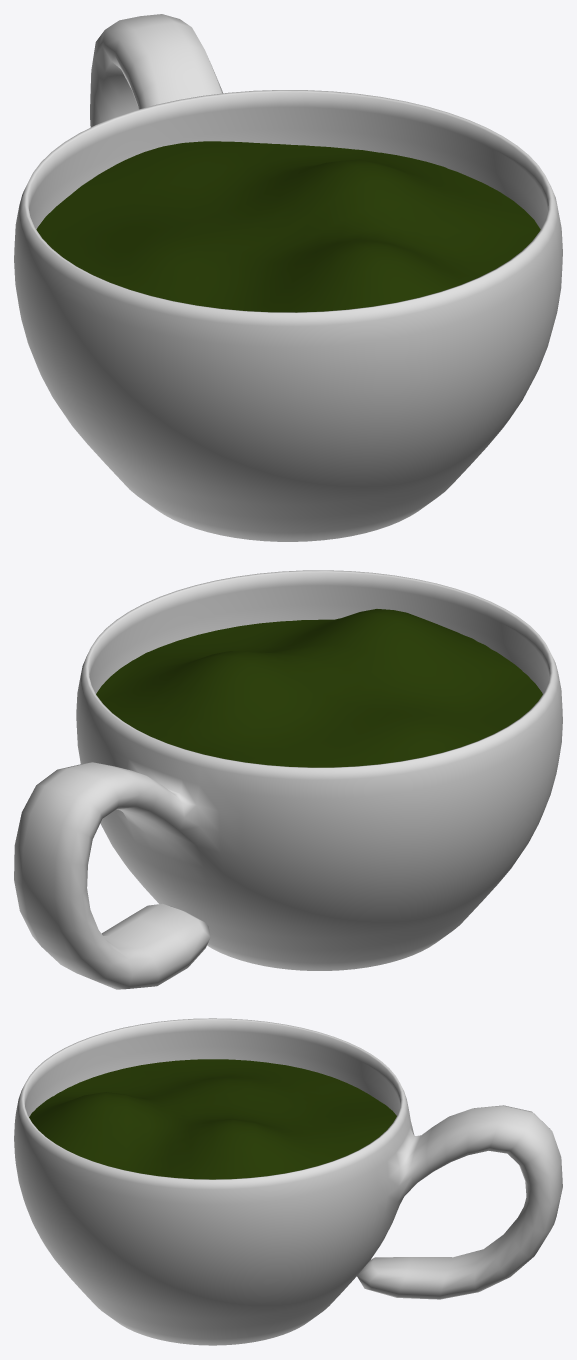
Rendered from Crack_Tea.fbx.
3 views of the same model, one above another, from view 1: azimuth 30°, elevation 25°; view 2: azimuth 150°, elevation 25°; view 3: azimuth 270°, elevation 25° (orthographic). The views are drawn at different scales.
Visible parts, largest first — view 1: Sphere; view 2: Sphere; view 3: Sphere.
Part boxes in pixels (x1,y1,x2,y2): Sphere: (14,14,562,541); Sphere: (14,570,562,989); Sphere: (14,1018,562,1345).
Size of the model in its own units: 197 by 118 by 273.
